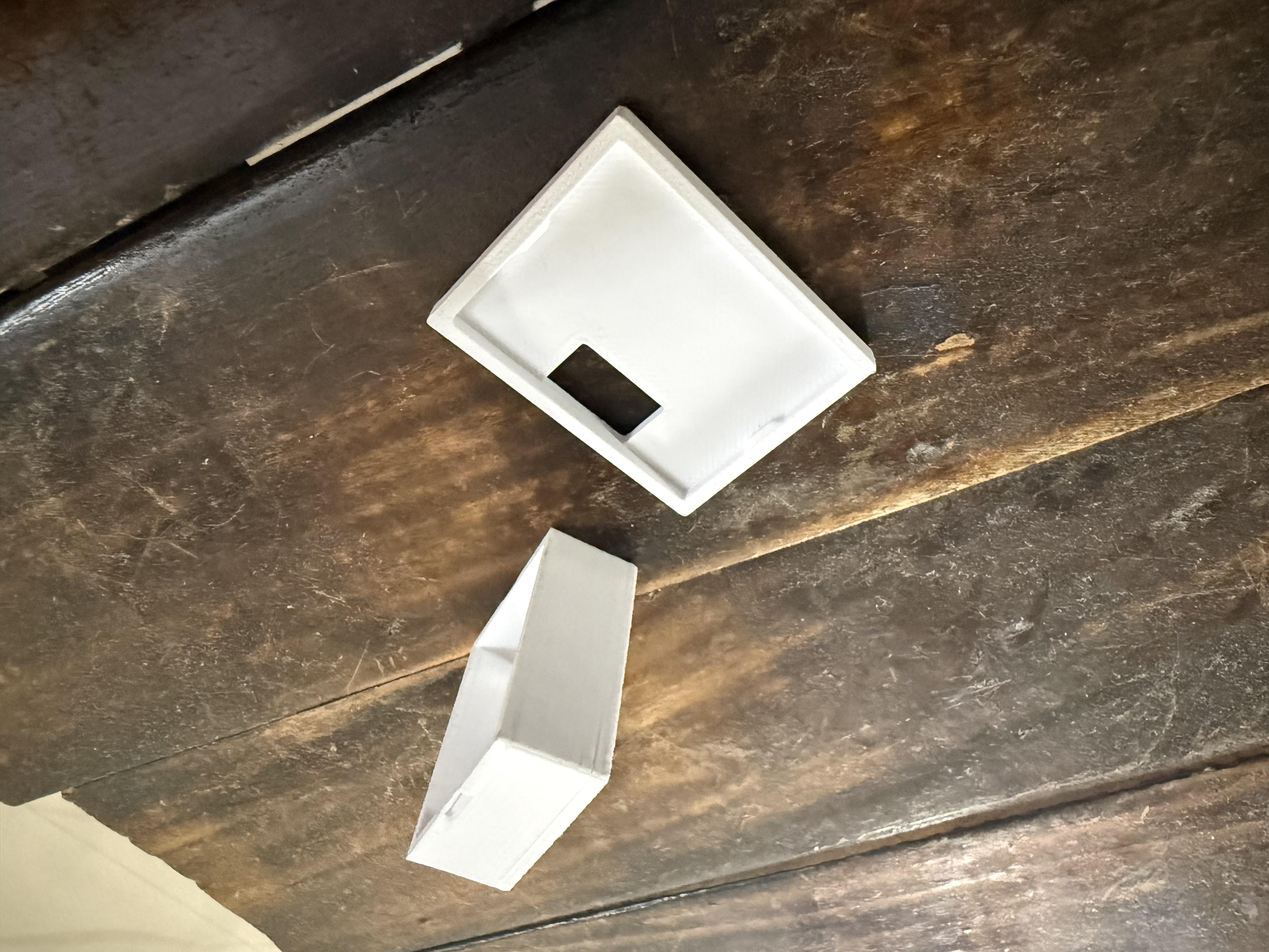enclosure: (426, 105, 877, 518), (405, 527, 638, 892)
